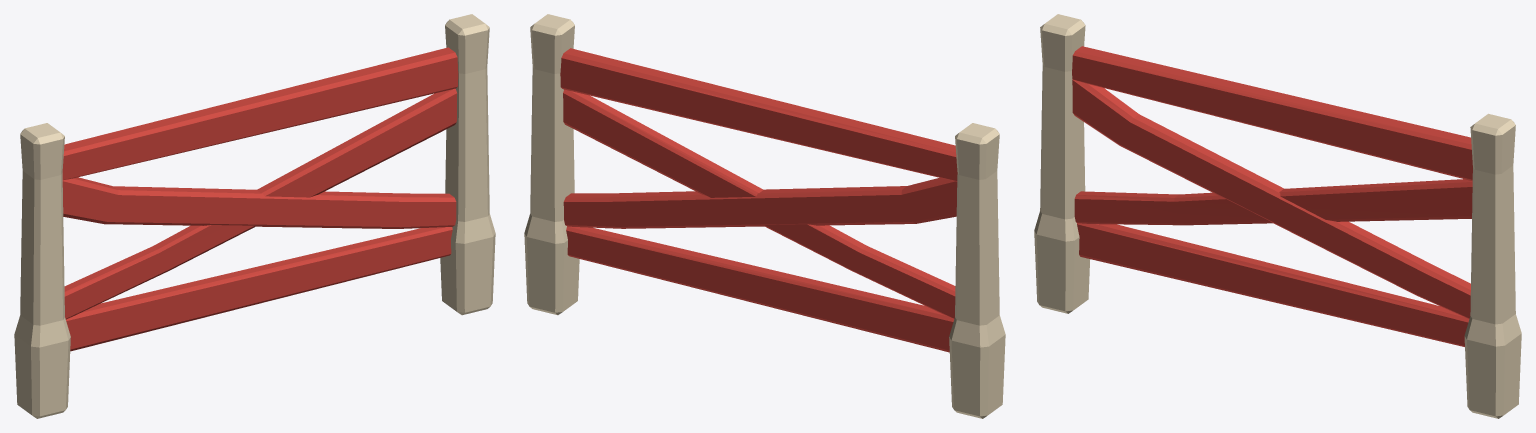
The model's file is fence_f.gltf.
The picture shows the model from 3 angles, left to right: view 1: azimuth 30°, elevation 25°; view 2: azimuth 150°, elevation 25°; view 3: azimuth 330°, elevation 25°; orthographic projection.
Parts seen in each view (by area): view 1: fence_f001; view 2: fence_f001; view 3: fence_f001.
Boxes of the visible parts, bbox=[...] form: fence_f001: bbox=[14, 14, 495, 418]; fence_f001: bbox=[524, 14, 1005, 418]; fence_f001: bbox=[1034, 14, 1521, 418].
Size of the model in its own units: 0.9267 by 0.5433 by 0.0797.
Materials: 1 (1 with a texture image).
